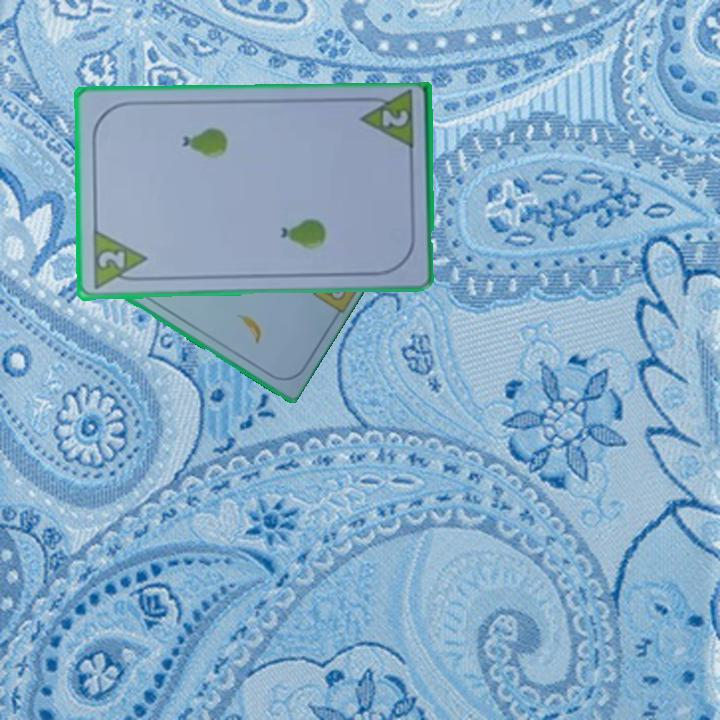2p: (95, 248, 128, 272), (378, 106, 411, 130)
